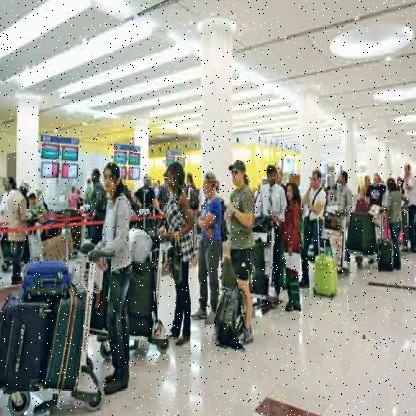airport-trolley: (0, 236, 106, 416), (81, 227, 175, 359)
